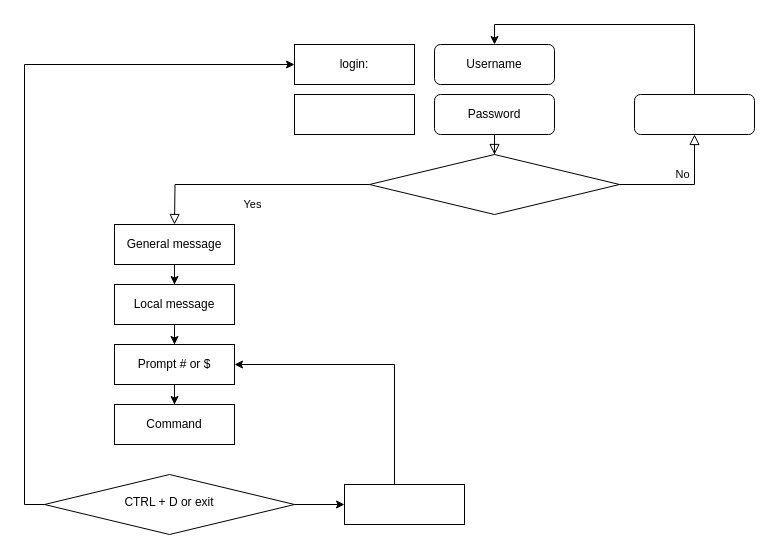
This 772x552 diagram has some shape labels left out. The shapes that lost their labels are listed below. From the top down, each one's centre as x and y in pixels, then its label:
At point (354, 114): "password:".
At point (694, 114): "wrong login".
At point (494, 184): "Username + password are corrects ?".
At point (404, 504): "Result".
